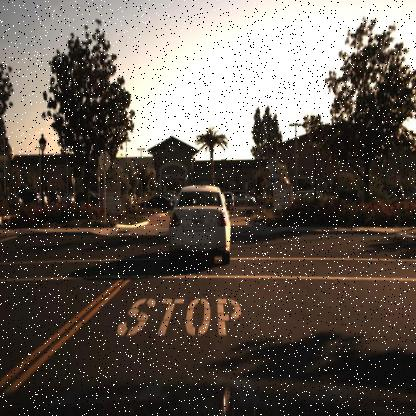car: (162, 182, 236, 270), (74, 188, 102, 210), (138, 194, 175, 210), (216, 190, 236, 215), (232, 192, 255, 209), (228, 189, 251, 203)
